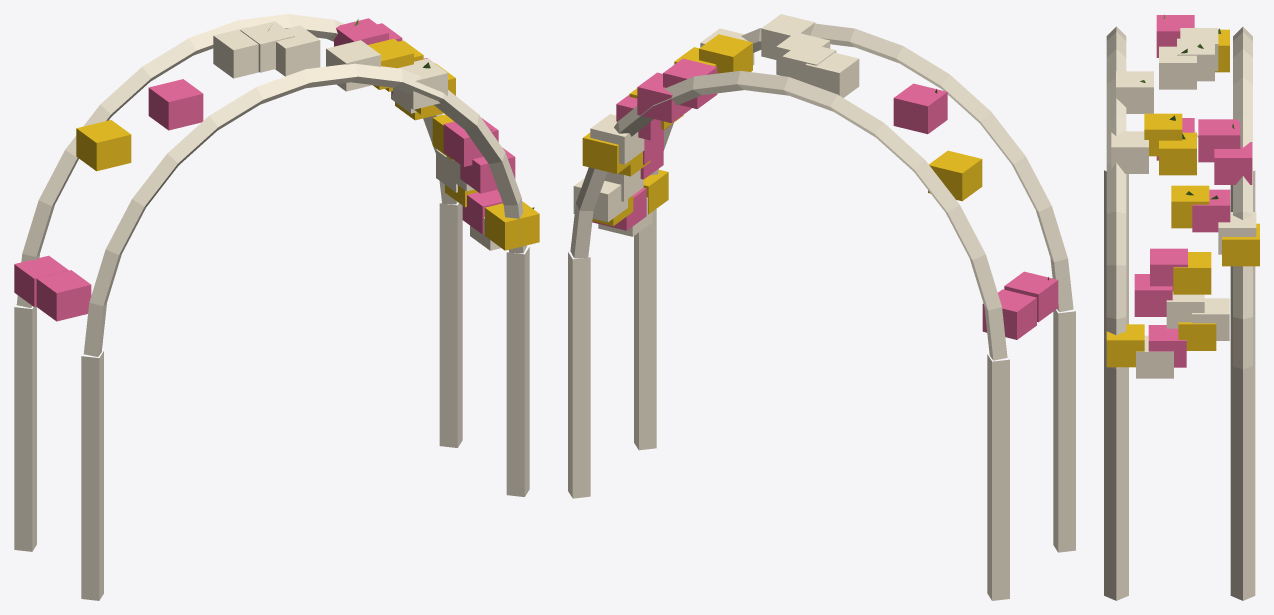
Rendered from arch.glb.
The picture shows the model from 3 angles, left to right: view 1: azimuth 30°, elevation 25°; view 2: azimuth 150°, elevation 25°; view 3: azimuth 270°, elevation 25°; orthographic projection. The views are drawn at different scales.
Parts seen in each view (by area): view 1: arch_wood, arch_petal; view 2: arch_wood, arch_petal; view 3: arch_petal, arch_wood.
Boxes of the visible parts, <box> form: arch_wood: <box>14,14,529,600</box>; arch_petal: <box>14,18,539,321</box>; arch_wood: <box>568,23,1075,600</box>; arch_petal: <box>573,14,1058,339</box>; arch_petal: <box>1106,15,1259,378</box>; arch_wood: <box>1104,26,1255,600</box>.
Size of the model in its own units: 2.38 by 2.4 by 0.7394.
